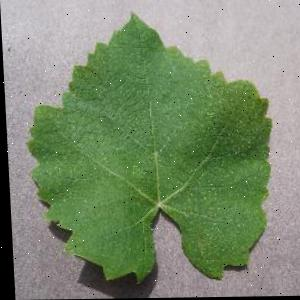Folha: (20, 10, 279, 285)
